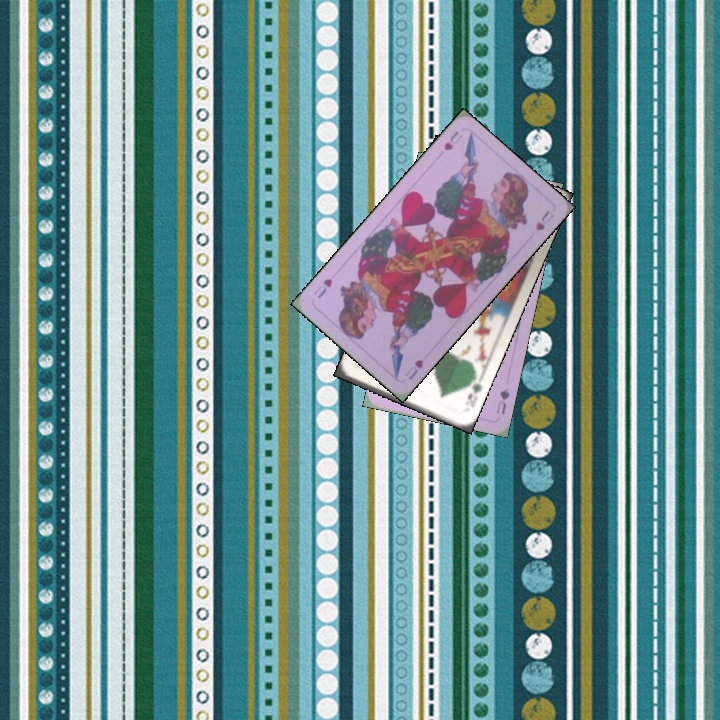GK: (464, 374, 485, 410)
GU: (492, 384, 512, 417)
HU: (401, 355, 426, 382), (440, 127, 465, 153)
